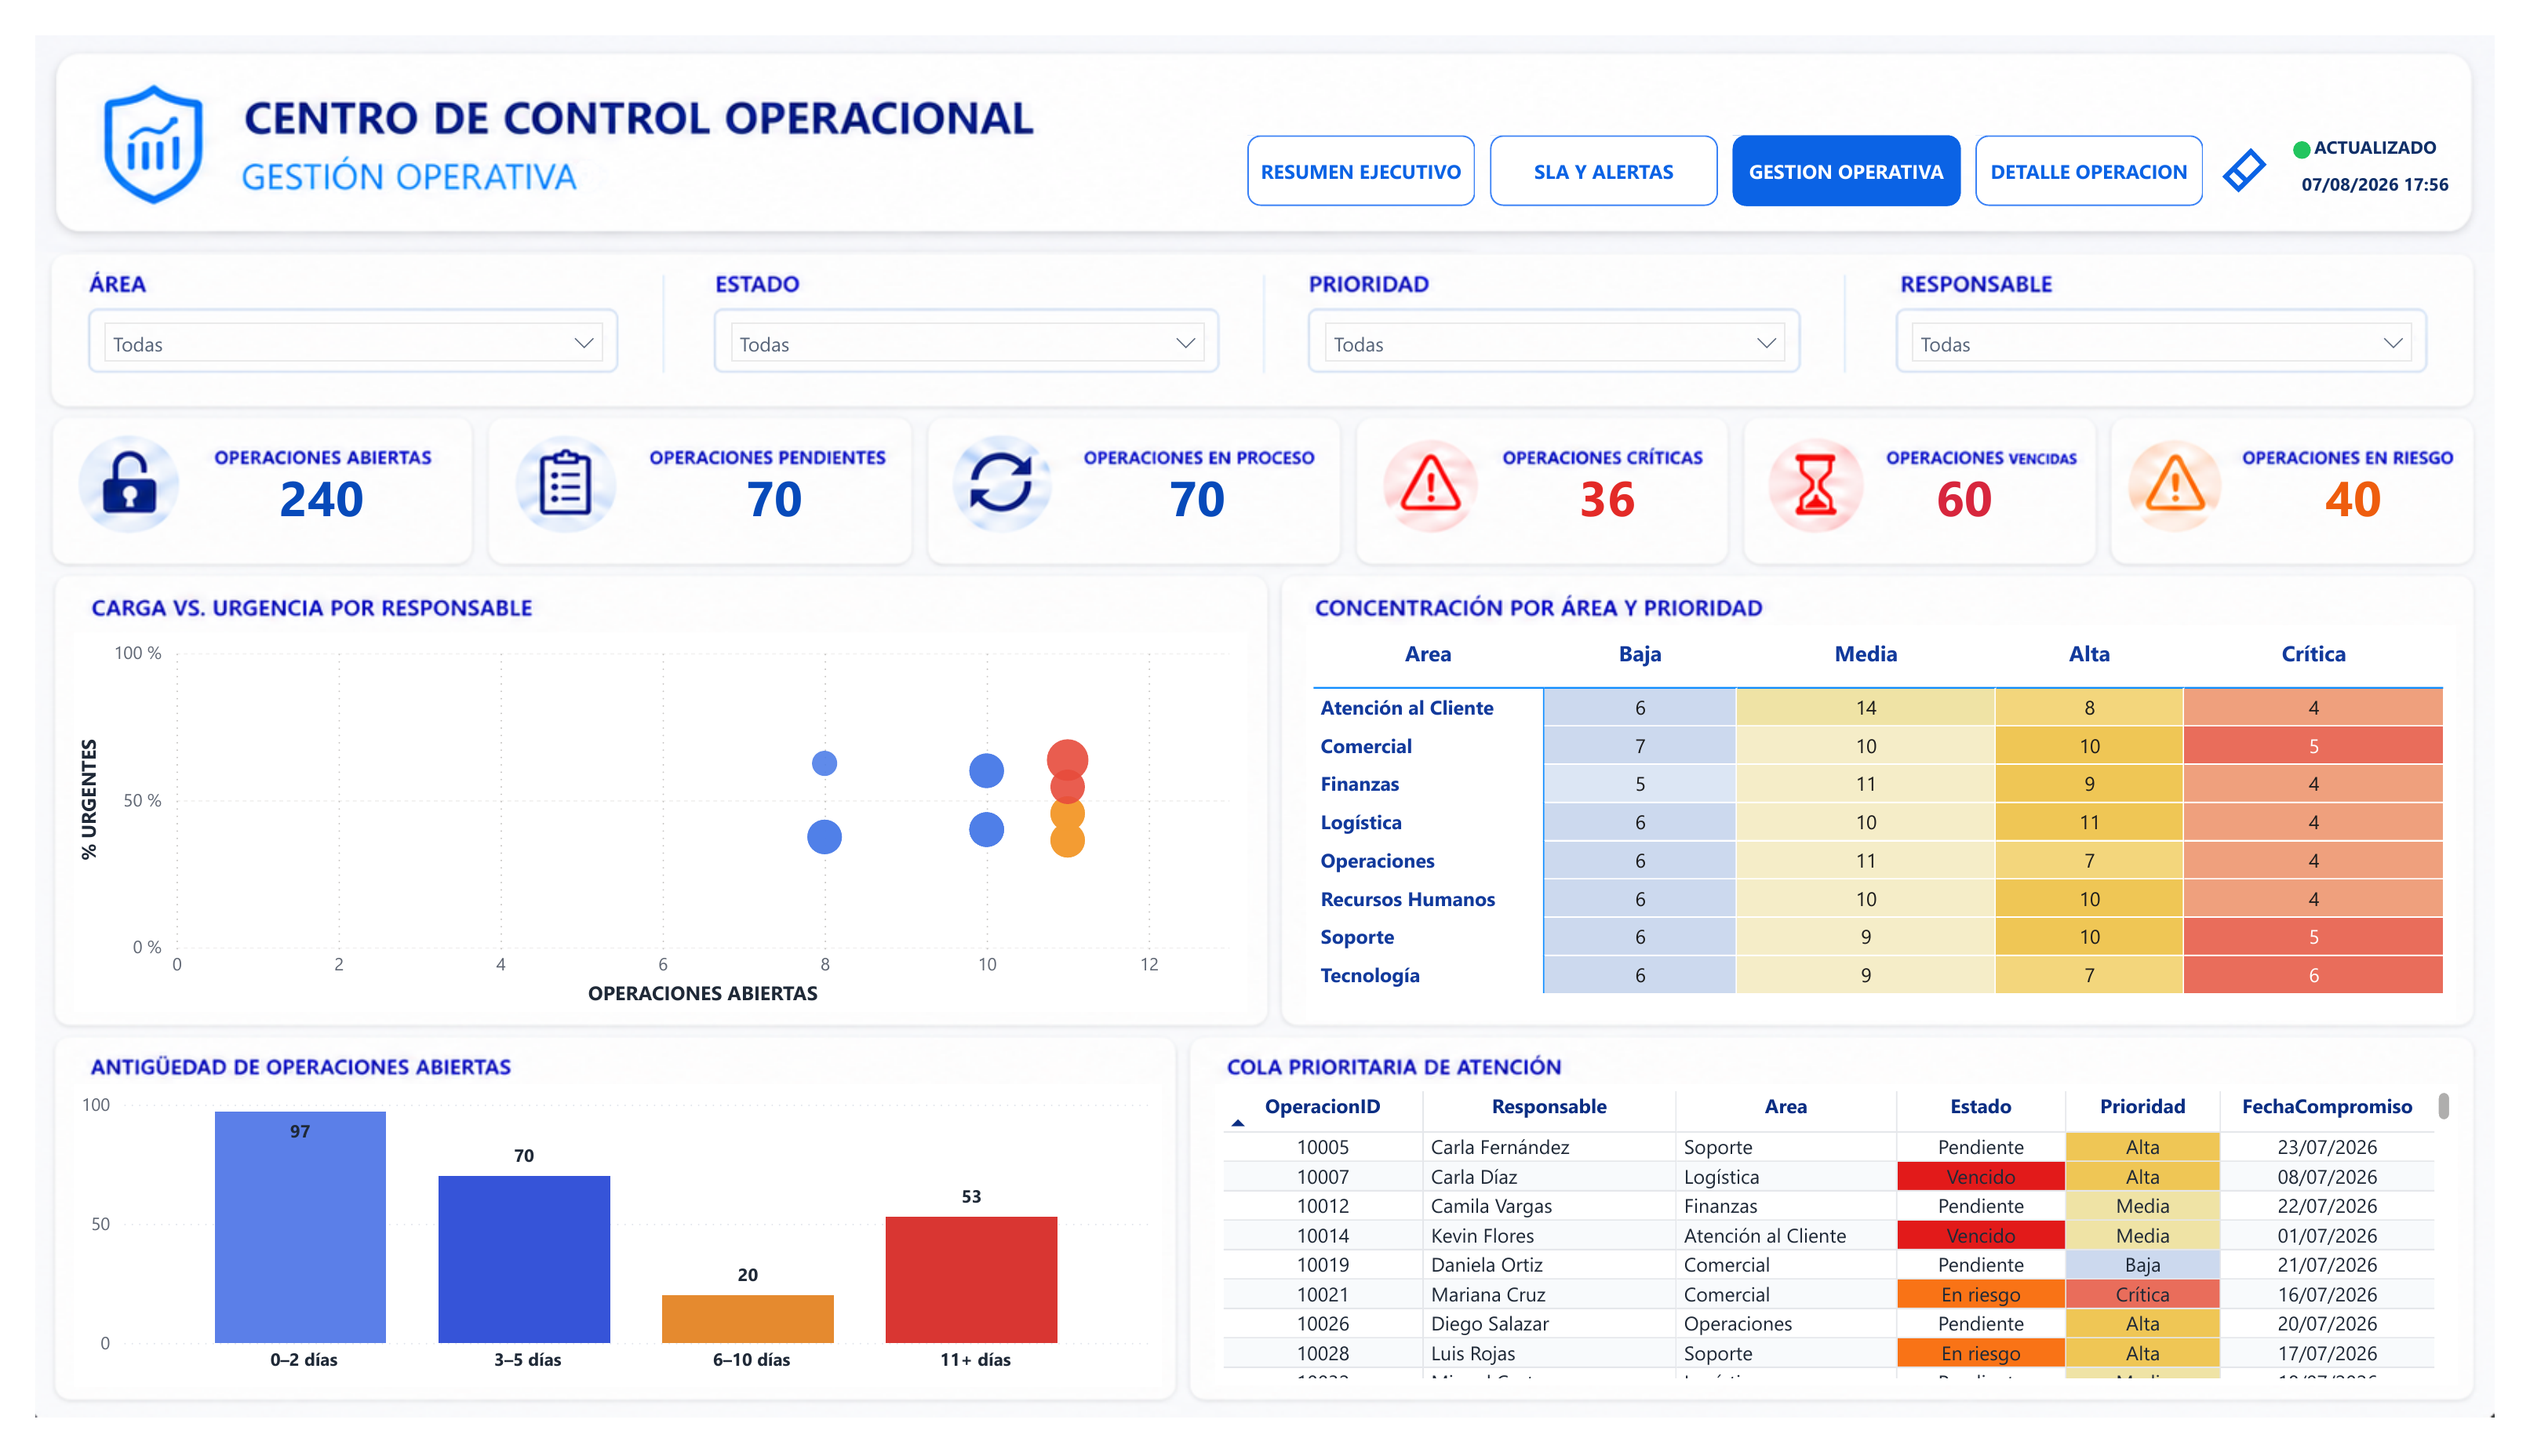

This screenshot's page, from the dashboard's own definition file:
{"tool":"powerbi","page":{"name":"GESTION OPERATIVA","canvas":[1672,941],"ordinal":2},"visuals":[{"type":"slicer","fields":{"Values":["Dim_Area.Area"]},"box":[37.3,185,359.1,45.9],"z":0},{"type":"slicer","fields":{"Values":["Dim_Estado.Estado"]},"box":[462.8,184.8,342.4,45.6],"z":1000},{"type":"slicer","fields":{"Values":["Dim_Prioridad.Prioridad"]},"box":[866.8,184.8,333.6,45.6],"z":2000},{"type":"slicer","fields":{"Values":["Dim_Responsable.Responsable"]},"box":[1266.4,184.8,359.6,46],"z":3000},{"type":"pageNavigator","box":[824,68,650,48],"z":4000},{"type":"actionButton","box":[1487,68,40,48],"z":5000},{"type":"cardVisual","title":"ACTUALIZADO","fields":{"Data":["Consulta.Texto Actualizacion"]},"box":[1536,68,110,48],"z":6000},{"type":"shape","box":[1535.2,71.6,12,12],"z":7000},{"type":"cardVisual","fields":{"Data":["Fact_Operaciones.Operaciones Abiertas"]},"box":[106.2,278.8,177.5,66.2],"z":8000},{"type":"cardVisual","fields":{"Data":["Fact_Operaciones.Operaciones Pendientes"]},"box":[413.8,278.8,177.5,66.2],"z":9000},{"type":"cardVisual","fields":{"Data":["Fact_Operaciones.Operaciones En Proceso"]},"box":[701.2,278.8,177.5,66.2],"z":10000},{"type":"cardVisual","fields":{"Data":["Fact_Operaciones.Operaciones Criticas"]},"box":[980,278.8,177.5,66.2],"z":11000},{"type":"cardVisual","fields":{"Data":["Fact_Operaciones.Operaciones Vencidas"]},"box":[1222.5,278.8,177.5,66.2],"z":12000},{"type":"cardVisual","fields":{"Data":["Fact_Operaciones.Operaciones En Riesgo"]},"box":[1487.5,278.8,177.5,66.2],"z":13000},{"type":"scatterChart","fields":{"X":["Fact_Operaciones.Operaciones Abiertas"],"Size":["Fact_Operaciones.Operaciones Criticas"],"Category":["Dim_Responsable.Responsable"],"Y":["Fact_Operaciones.Porcentaje Operaciones Urgentes"]},"box":[25.7,405.7,798.6,258.6],"z":14000},{"type":"pivotTable","fields":{"Rows":["Dim_Area.Area"],"Columns":["Dim_Prioridad.Prioridad"],"Values":["Fact_Operaciones.Operaciones Abiertas"]},"box":[864.3,401.4,781.4,268.6],"z":15000},{"type":"clusteredColumnChart","fields":{"Category":["Fact_Operaciones.Rango Antiguedad"],"Y":["Fact_Operaciones.Operaciones Abiertas"]},"box":[25.7,712.9,740,205.7],"z":16000},{"type":"tableEx","fields":{"Values":["Fact_Operaciones.OperacionID","Dim_Responsable.Responsable","Dim_Area.Area","Dim_Estado.Estado","Dim_Prioridad.Prioridad","Fact_Operaciones.FechaCompromiso"]},"box":[801.7,713.3,845,205],"z":17000}]}

Visuals, with their boxes in screenshot pixels (x1, y1, x2, y2), scaled from the page's 1672x941 canvas onto the 2530x1456 screenshot:
slicer - Dim_Area.Area: <region>56, 286, 600, 357</region>
slicer - Dim_Estado.Estado: <region>701, 286, 1218, 356</region>
slicer - Dim_Prioridad.Prioridad: <region>1312, 286, 1816, 356</region>
slicer - Dim_Responsable.Responsable: <region>1917, 286, 2460, 357</region>
pageNavigator: <region>1247, 105, 2230, 180</region>
actionButton: <region>2250, 105, 2310, 180</region>
"ACTUALIZADO" cardVisual: <region>2324, 105, 2491, 180</region>
shape: <region>2323, 111, 2341, 129</region>
cardVisual - Fact_Operaciones.Operaciones Abiertas: <region>161, 431, 429, 533</region>
cardVisual - Fact_Operaciones.Operaciones Pendientes: <region>626, 431, 895, 533</region>
cardVisual - Fact_Operaciones.Operaciones En Proceso: <region>1061, 431, 1330, 533</region>
cardVisual - Fact_Operaciones.Operaciones Criticas: <region>1483, 431, 1752, 533</region>
cardVisual - Fact_Operaciones.Operaciones Vencidas: <region>1850, 431, 2118, 533</region>
cardVisual - Fact_Operaciones.Operaciones En Riesgo: <region>2251, 431, 2519, 533</region>
scatterChart - Fact_Operaciones.Operaciones Abiertas x Fact_Operaciones.Operaciones Criticas: <region>39, 628, 1247, 1028</region>
pivotTable - Dim_Area.Area x Dim_Prioridad.Prioridad: <region>1308, 621, 2490, 1036</region>
clusteredColumnChart - Fact_Operaciones.Rango Antiguedad x Fact_Operaciones.Operaciones Abiertas: <region>39, 1103, 1159, 1421</region>
tableEx - Fact_Operaciones.OperacionID x Dim_Responsable.Responsable: <region>1213, 1104, 2492, 1421</region>
